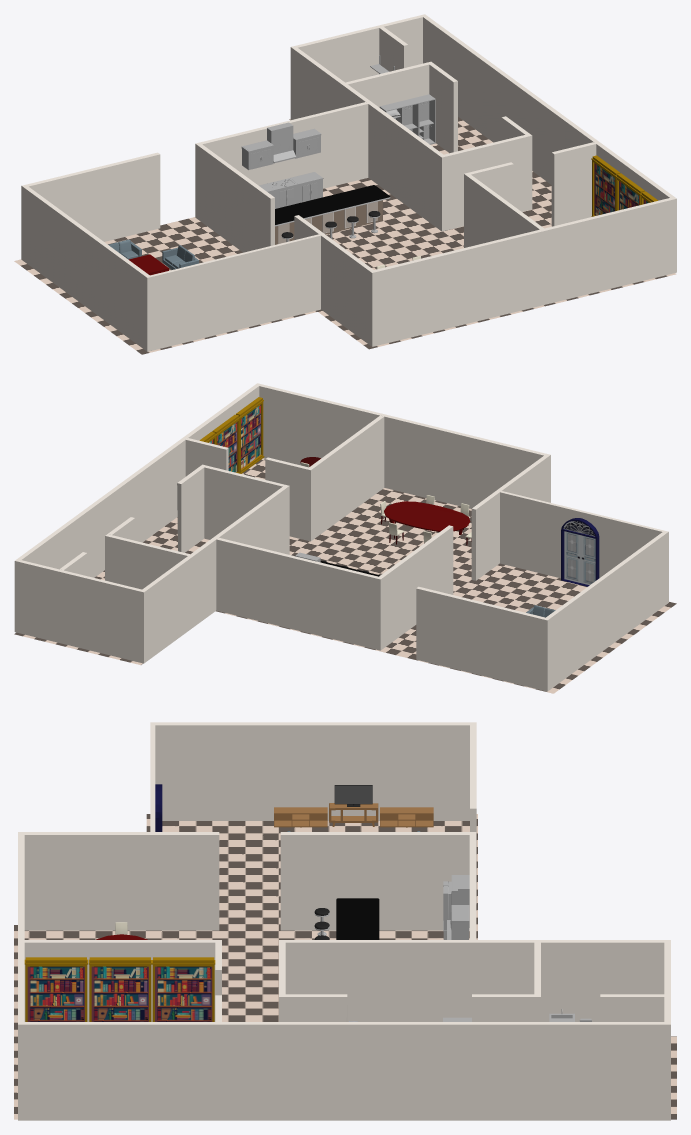
File: Home_test.glb
3 renders of one model, top to bottom at view 1: azimuth 30°, elevation 25°; view 2: azimuth 150°, elevation 25°; view 3: azimuth 270°, elevation 25°, orthographic. The views are drawn at different scales.
Parts seen in each view (by area): view 1: polySurface13437, polySurface13463, polySurface13502, polySurface13503, polySurface13535, polySurface13406, polySurface13449, polySurface13493, polySurface13556, polySurface13414, polySurface13557, polySurface13607 (+13 smaller); view 2: polySurface13437, polySurface13502, polySurface13493, polySurface13503, polySurface13535, polySurface13449, polySurface13557, polySurface13406, polySurface13463, polySurface13466, polySurface13556, polySurface13414 (+11 smaller); view 3: polySurface13503, polySurface13535, polySurface13406, polySurface13414, polySurface13502, polySurface13556, polySurface13628, polySurface13632, polySurface13630, polySurface13466, polySurface13465, polySurface13641 (+11 smaller).
Boxes of the visible parts, x1,y1,x2,y2 form: polySurface13437: (374,198,672,345); polySurface13463: (150,234,320,350); polySurface13502: (14,117,676,354); polySurface13503: (421,14,676,273); polySurface13535: (21,184,151,351); polySurface13406: (290,46,446,231); polySurface13449: (26,152,160,241); polySurface13493: (200,102,368,188); polySurface13556: (195,142,274,252); polySurface13414: (294,215,376,346); polySurface13557: (295,15,422,82); polySurface13607: (444,135,527,230); polySurface13437: (259,384,546,508); polySurface13502: (14,458,676,693); polySurface13493: (216,537,378,649); polySurface13503: (14,383,261,632); polySurface13535: (543,530,668,691); polySurface13449: (416,586,544,690); polySurface13557: (19,560,141,662); polySurface13406: (139,485,289,663); polySurface13463: (500,491,663,578); polySurface13466: (306,415,384,541); polySurface13556: (376,525,453,650); polySurface13414: (471,454,550,580); polySurface13503: (18,1022,670,1120); polySurface13535: (150,722,476,820); polySurface13406: (279,940,670,1021); polySurface13414: (18,832,219,930); polySurface13502: (14,814,676,1119); polySurface13556: (280,832,476,930); polySurface13628: (24,957,87,1021); polySurface13632: (152,957,215,1021); polySurface13630: (88,957,151,1021); polySurface13466: (24,940,221,1021); polySurface13465: (279,994,347,1021); polySurface13641: (336,898,379,939).
Size of the model in its own units: 25.28 by 3.74 by 23.09.
Materials: 33 (5 with a texture image).
